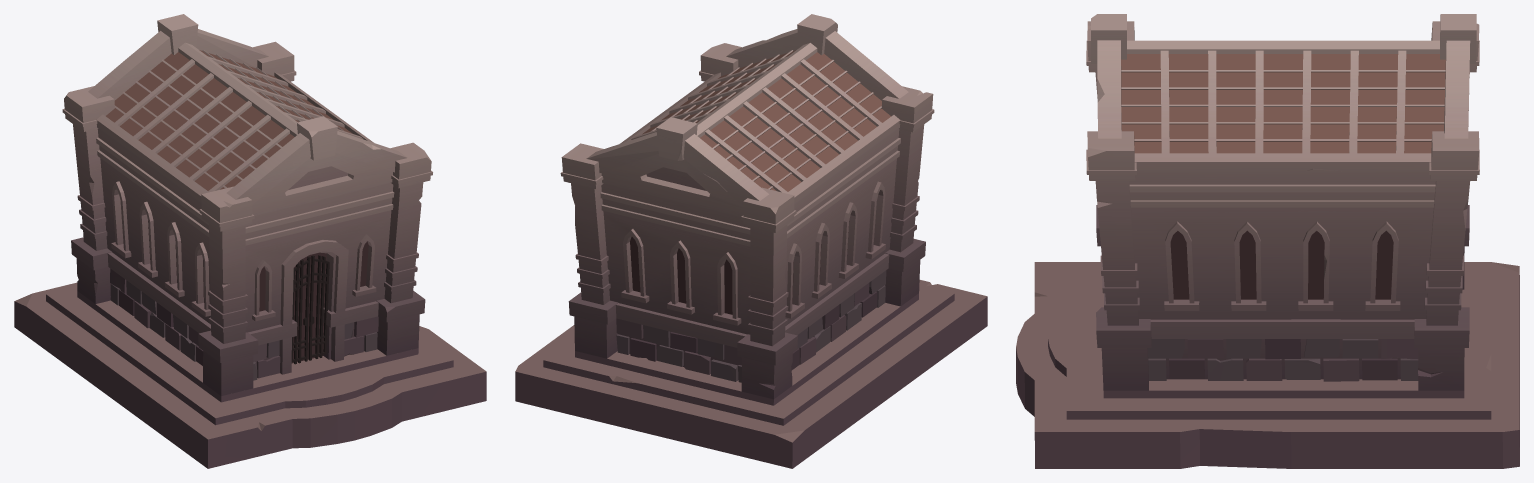
The model's file is mausoleumLargeSkewed.glb.
3 views of the same model, side by side, from view 1: azimuth 30°, elevation 25°; view 2: azimuth 150°, elevation 25°; view 3: azimuth 270°, elevation 25° (orthographic). The views are drawn at different scales.
Parts seen in each view (by area): view 1: mausoleumLargeSkewed; view 2: mausoleumLargeSkewed; view 3: mausoleumLargeSkewed.
Boxes of the visible parts, x1,y1,x2,y2 form: mausoleumLargeSkewed: (14,14,486,468); mausoleumLargeSkewed: (515,14,987,468); mausoleumLargeSkewed: (1016,14,1519,468).
Size of the model in its own units: 7.11 by 7.04 by 8.89.
Materials: 1 (1 with a texture image).
